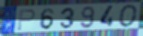3: (59, 7, 77, 30)
4: (99, 5, 117, 29)
6: (39, 7, 56, 31)
9: (80, 6, 97, 30)
O: (118, 4, 139, 28)
P: (17, 9, 37, 32)
